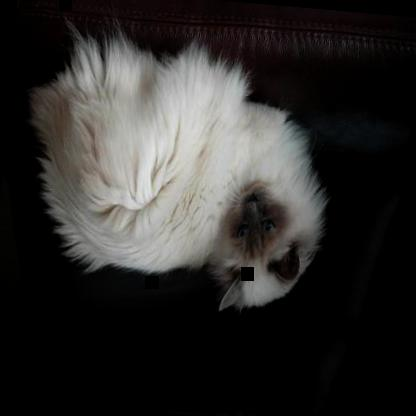cat: (13, 26, 340, 320)
